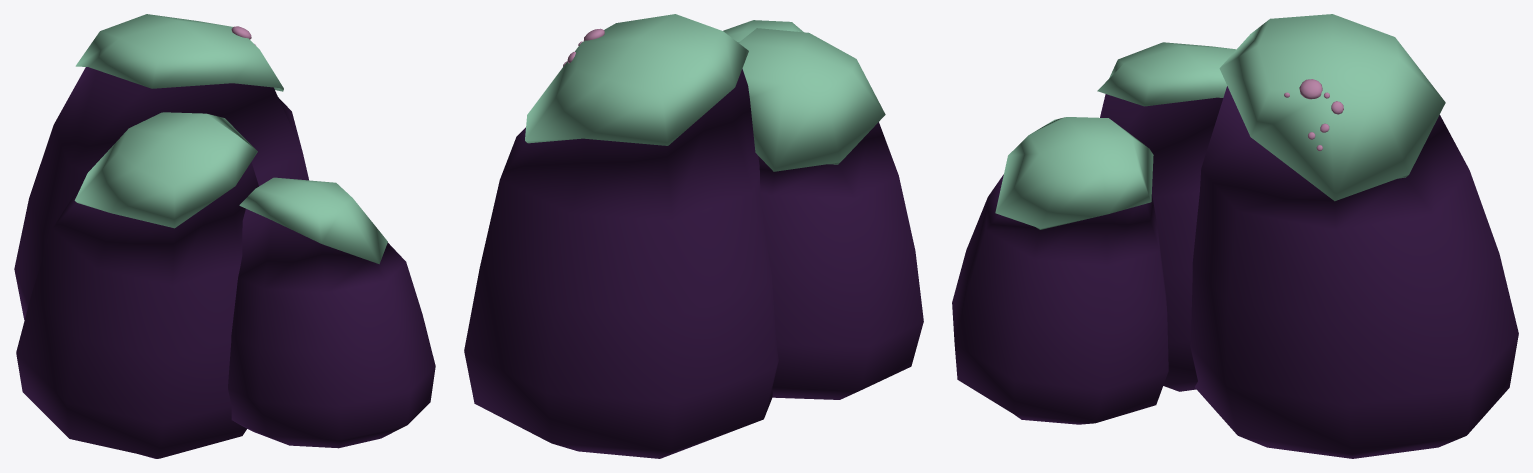
The model's file is RockCluster.glb.
3 views of the same model, side by side, from view 1: azimuth 30°, elevation 25°; view 2: azimuth 150°, elevation 25°; view 3: azimuth 270°, elevation 25° (orthographic). The views are drawn at different scales.
Visible parts, largest first — view 1: Rock.002, Rock.001, Rock; view 2: Rock, Rock.002, Rock.001; view 3: Rock, Rock.001, Rock.002, Moss Flowers.
Part boxes in pixels (x1,y1,x2,y2): Rock.002: (16,112,258,458); Rock.001: (228,177,435,448); Rock: (14,14,308,319); Rock: (464,14,778,458); Rock.002: (738,28,923,399); Rock.001: (723,20,803,41); Rock: (1190,14,1518,458); Rock.001: (952,117,1168,424); Rock.002: (1097,42,1236,391); Moss Flowers: (1284,79,1343,150).
Size of the model in its own units: 2.79 by 2.9 by 3.9.
